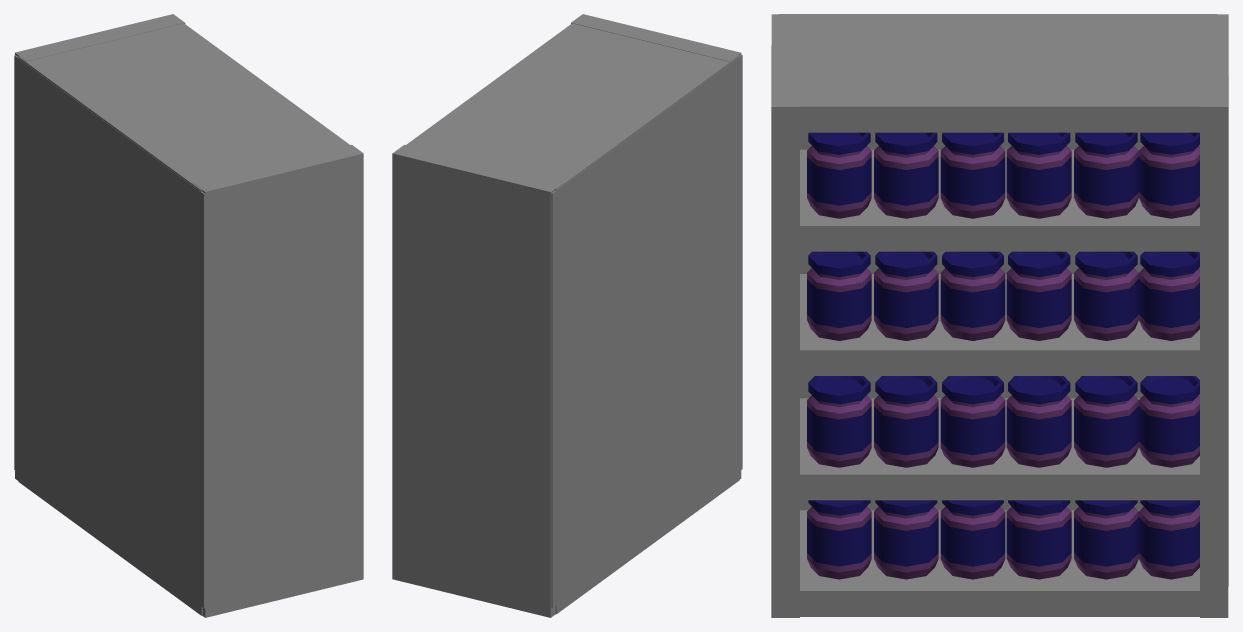
Rendered from jam_shelf.gltf.
The picture shows the model from 3 angles, left to right: view 1: azimuth 30°, elevation 25°; view 2: azimuth 150°, elevation 25°; view 3: azimuth 270°, elevation 25°; orthographic projection. The views are drawn at different scales.
Parts seen in each view (by area): view 1: Cube; view 2: Cube; view 3: Cube, peanutButter.011, peanutButter.004, peanutButter.010, peanutButter.032, peanutButter.005, peanutButter.003, peanutButter.002, peanutButter.031.
Boxes of the visible parts, x1,y1,x2,y2 form: Cube: [14, 14, 363, 617]; Cube: [392, 14, 742, 617]; Cube: [771, 14, 1228, 617]; peanutButter.011: [874, 376, 1199, 467]; peanutButter.004: [874, 251, 1199, 340]; peanutButter.010: [874, 132, 1199, 218]; peanutButter.032: [874, 500, 1199, 579]; peanutButter.005: [807, 376, 871, 467]; peanutButter.003: [807, 251, 871, 340]; peanutButter.002: [807, 132, 871, 218]; peanutButter.031: [807, 500, 871, 579].
Bounding box in the file's own units: 4.03 × 10.28 × 8.34.
